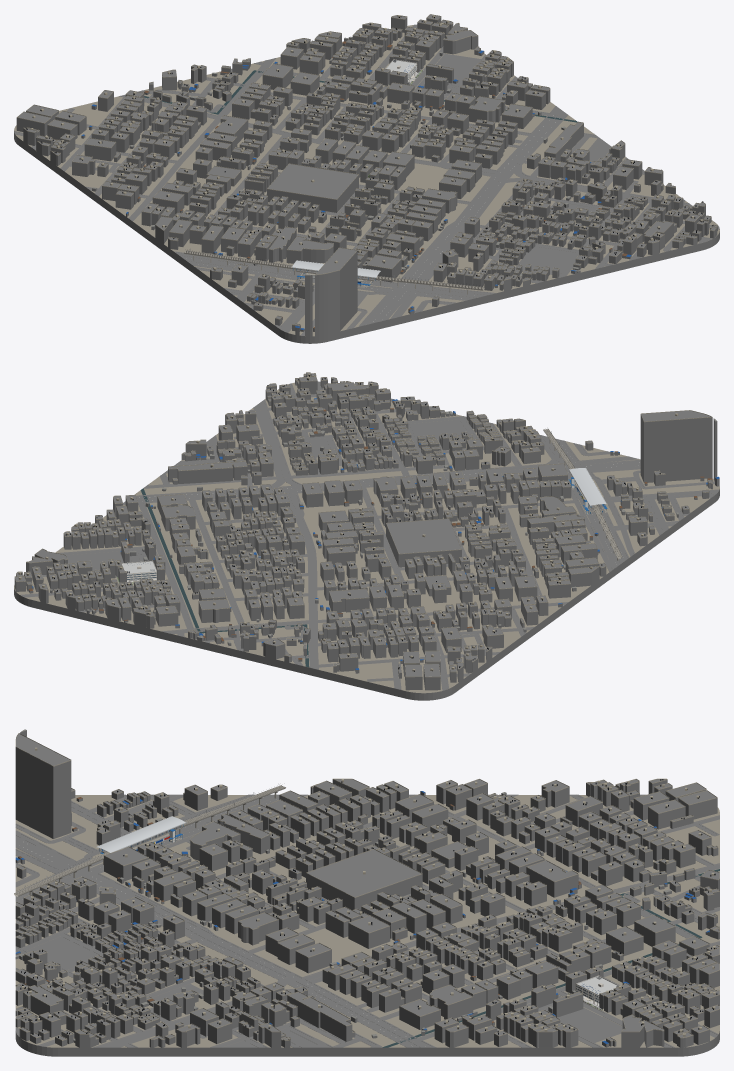
The picture shows the model from 3 angles, top to bottom: view 1: azimuth 30°, elevation 25°; view 2: azimuth 150°, elevation 25°; view 3: azimuth 270°, elevation 25°; orthographic projection. The views are drawn at different scales.
Parts seen in each view (by area): view 1: context, ground, plinth, rooftops, metro, stations; view 2: context, ground, rooftops, plinth, stations, metro, opt_a104_a104_hero; view 3: context, ground, rooftops, plinth, stations, metro, opt_a104_a104_hero.
Boxes of the visible parts, x1,y1,x2,y2 form: context: (16,14,717,336); ground: (14,24,719,336); plinth: (14,132,719,343); rooftops: (26,15,713,304); metro: (184,248,484,294); stations: (291,260,380,288); context: (14,372,719,690); ground: (14,381,719,693); rooftops: (18,373,686,671); plinth: (14,489,719,700); stations: (568,467,607,514); metro: (543,429,622,560); opt_a104_a104_hero: (116,560,156,585); context: (15,729,719,1047); ground: (15,794,719,1047); rooftops: (20,747,717,1037); plinth: (15,1031,719,1056); stations: (96,816,186,853); metro: (14,785,285,896); opt_a104_a104_hero: (567,975,618,1010).
Size of the model in its own units: 850 by 130 by 999.
